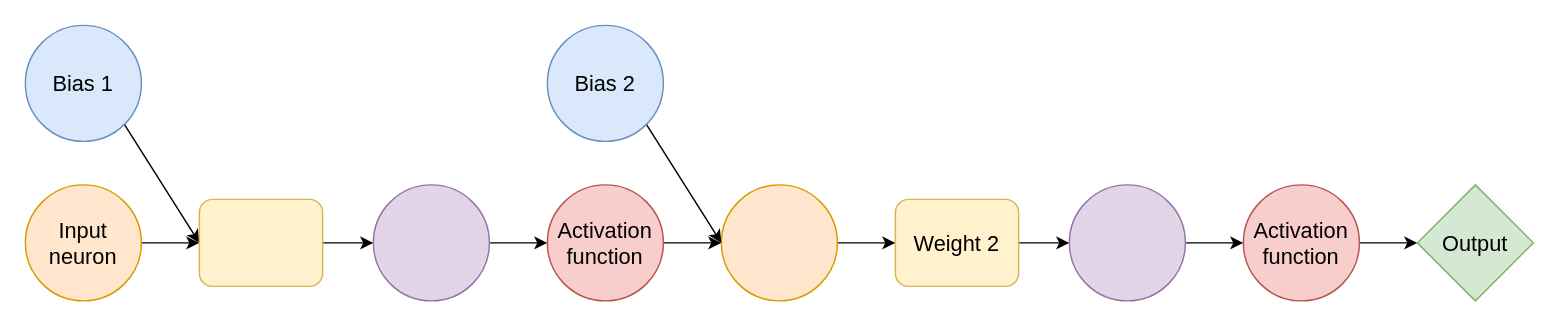
Image size: 1559x326. Some labels were removed from this diagram. The shapes that lost their labels are listed below. From the top down, each one's centre as x and y in pixels, then its label:
At pixel 260 242: "Weight 1".
At pixel 430 242: "Weighted sum 1".
At pixel 778 242: "Hidden neuron".
At pixel 1126 242: "Weighted sum 2".
